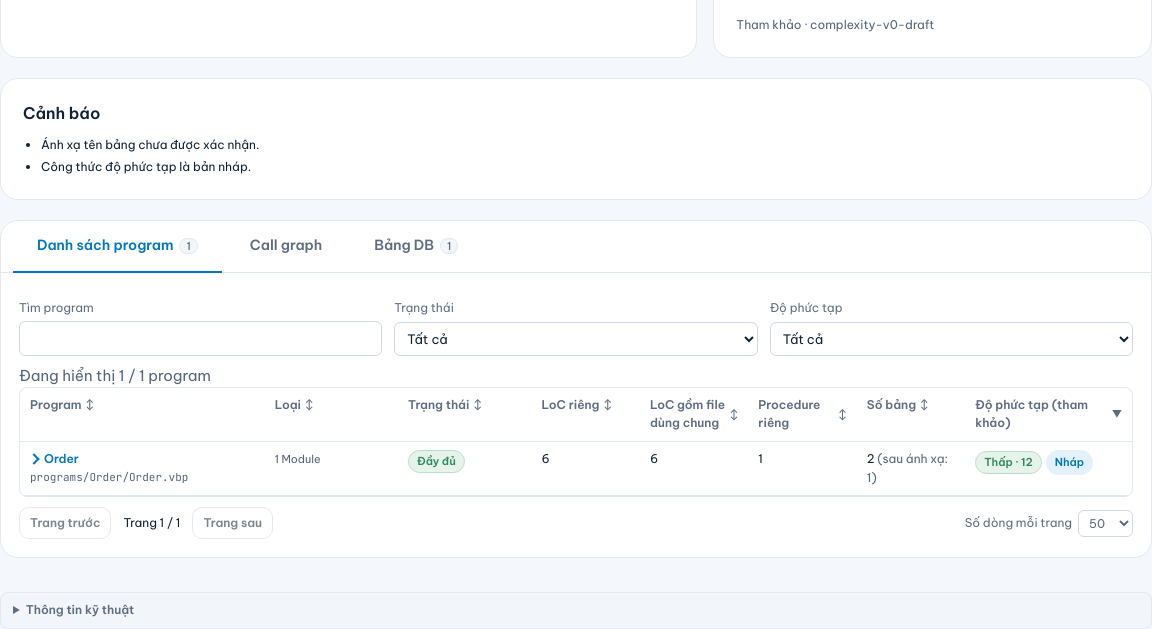
it: Assessment overview (F03) › UI02 opens the program detail inline under its row and links to document generation
(page scrolled)
Click the button "Order".
click(54, 459)  # box [30,450,79,469]
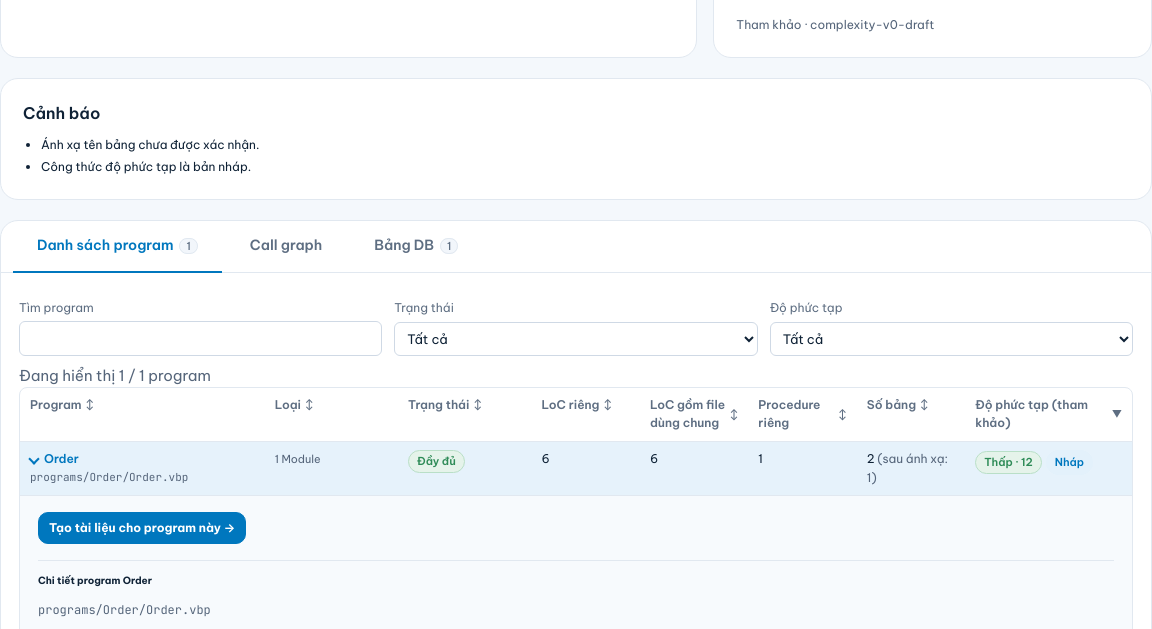
Now the button "Order" is expanded
Click the button "Order".
click(54, 459)  # box [30,450,79,469]
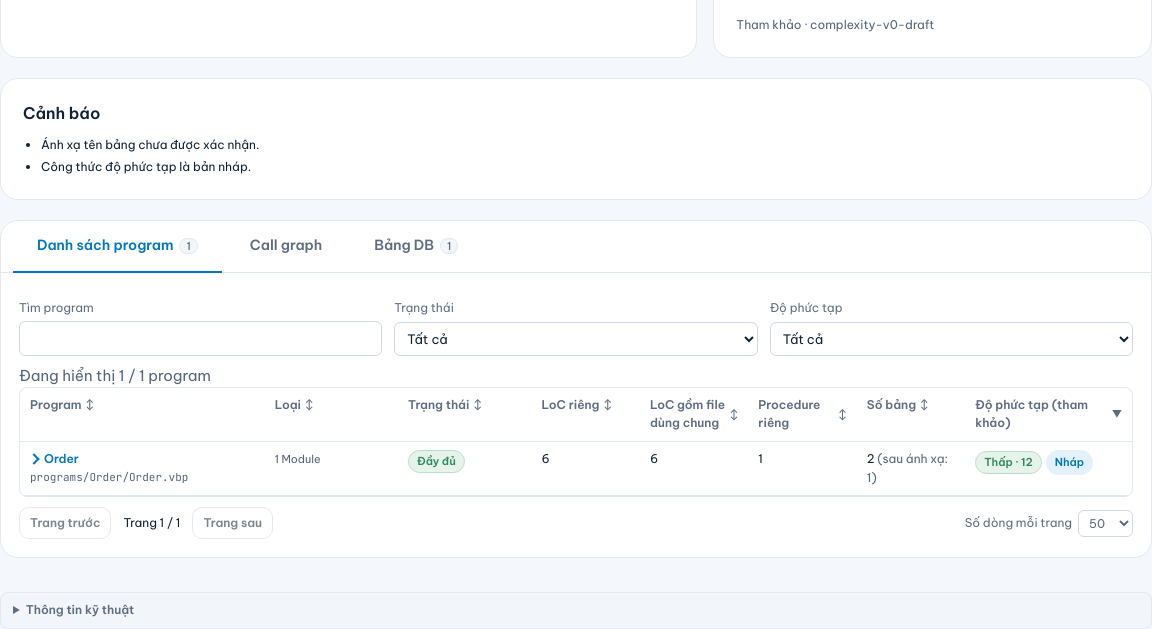
Now the heading "Chi tiết program Order" is gone
